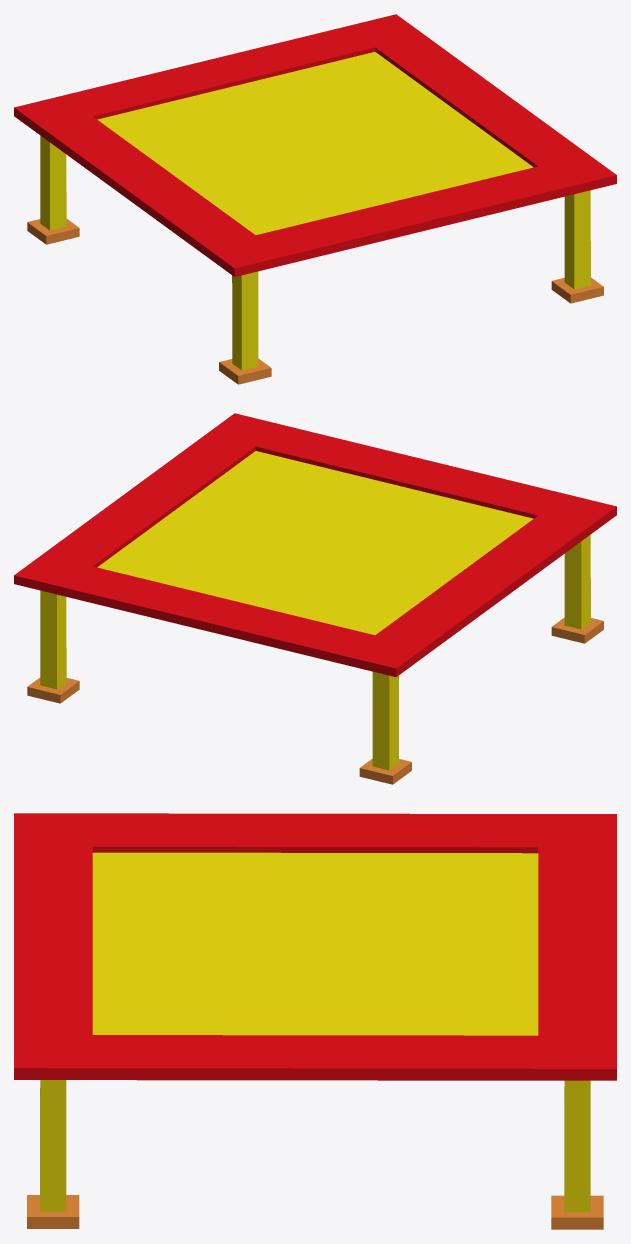
Rendered from Trambolina.fbx.
The picture shows the model from 3 angles, top to bottom: view 1: azimuth 30°, elevation 25°; view 2: azimuth 150°, elevation 25°; view 3: azimuth 270°, elevation 25°; orthographic projection. The views are drawn at different scales.
Visible parts, largest first — view 1: rim.6; view 2: rim.6; view 3: rim.6.
Part boxes in pixels (box(x1,y1,x2,y2)): rim.6: box(14, 14, 616, 384); rim.6: box(14, 413, 616, 784); rim.6: box(14, 813, 616, 1229).
Bounding box in the file's own units: 0.9625 × 0.2944 × 0.9625.
